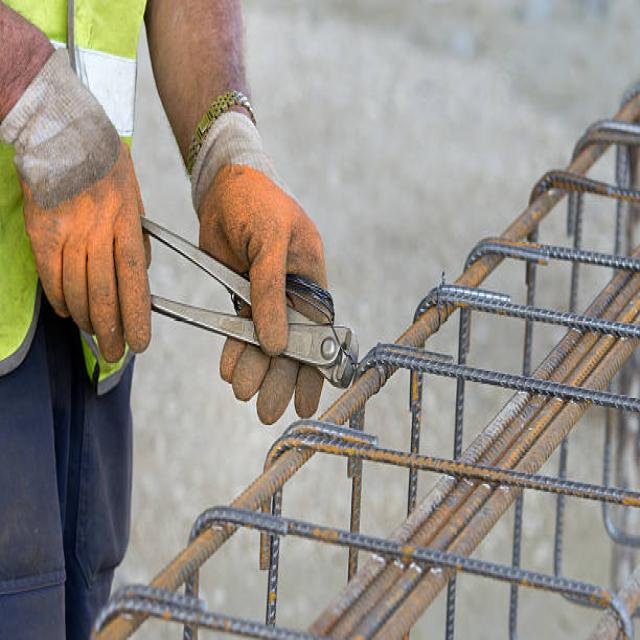gloves: (0, 45, 153, 366), (188, 110, 333, 428)
